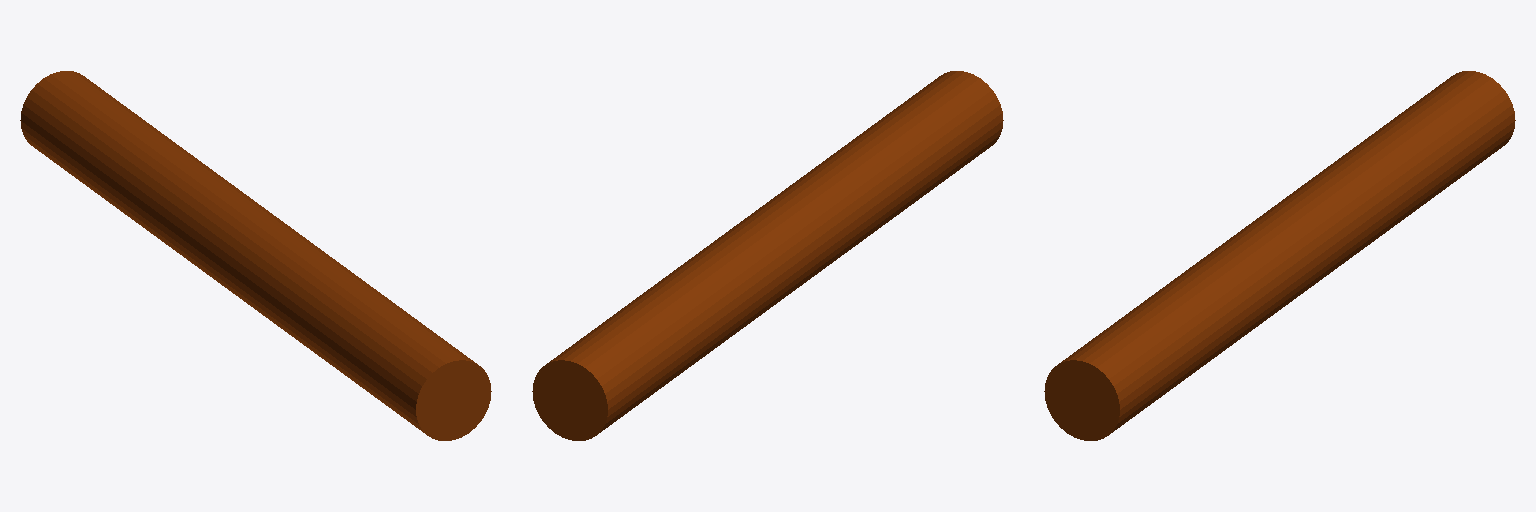
The robot description file, URDF, robot "cylinder":
<?xml version="1.0" ?>
<!-- =================================================================================== -->
<!-- |    This document was autogenerated by xacro from cylinder.xacro                 | -->
<!-- |    EDITING THIS FILE BY HAND IS NOT RECOMMENDED                                 | -->
<!-- =================================================================================== -->
<robot name="cylinder">
  <link name="world"/>
  <link name="base">
    <visual>
      <origin rpy="1.57079633 0 0" xyz="0 0 0"/>
      <geometry>
        <cylinder length="7.07106781185" radius="0.39"/>
      </geometry>
      <material name="cylinder_material">
        <color rgba="0.545 0.271 0.075 1.0"/>
        <texture filename="../textures/tree_bark.jpg"/>
      </material>
    </visual>
    <collision>
      <origin rpy="1.57079633 0 0" xyz="0 0 0"/>
      <geometry>
        <cylinder length="7.07106781185" radius="0.39"/>
      </geometry>
    </collision>
    <inertial>
      <origin rpy="0 0 0" xyz="0 0 0"/>
      <mass value="1"/>
      <inertia ixx="4.204691666648428" ixy="0.0" ixz="0.0" iyy="4.204691666648428" iyz="0.0" izz="24.999999999890573"/>
    </inertial>
  </link>
  <joint name="base_joint" type="fixed">
    <parent link="world"/>
    <child link="base"/>
    <origin rpy="0 0 0" xyz="0.0 0.0 0.0"/>
  </joint>
</robot>

--- What the picture shows (computed from the rendered views, not written in the file) ---
The picture shows the robot from 3 angles, left to right: view 1: azimuth 30°, elevation 25°; view 2: azimuth 150°, elevation 25°; view 3: azimuth 330°, elevation 25°; orthographic projection.
Model cylinder with 2 links and 1 joints (1 fixed), rooted at world, posed every joint at zero.
Links seen in each view (by area): view 1: base; view 2: base; view 3: base.
Link boxes in pixels (box(x1,y1,x2,y2)): base: box(20, 71, 491, 440); base: box(532, 71, 1003, 440); base: box(1044, 71, 1515, 440).
Bounding box of the posed robot: 0.78 × 7.07 × 0.78 m (x, y, z).
Geometry: primitives only (box / cylinder / sphere), no mesh files.
